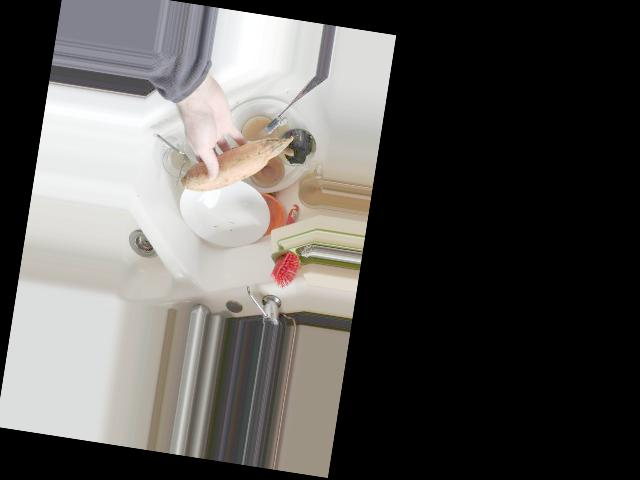sweet_potato: (179, 117, 291, 207)
